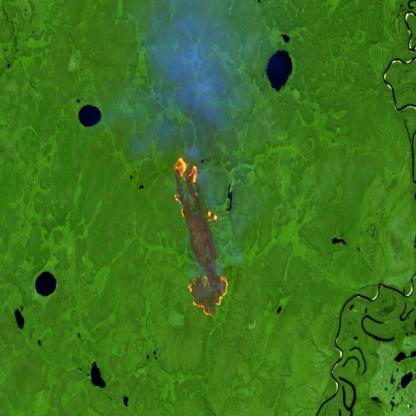fire: (168, 153, 227, 320)
